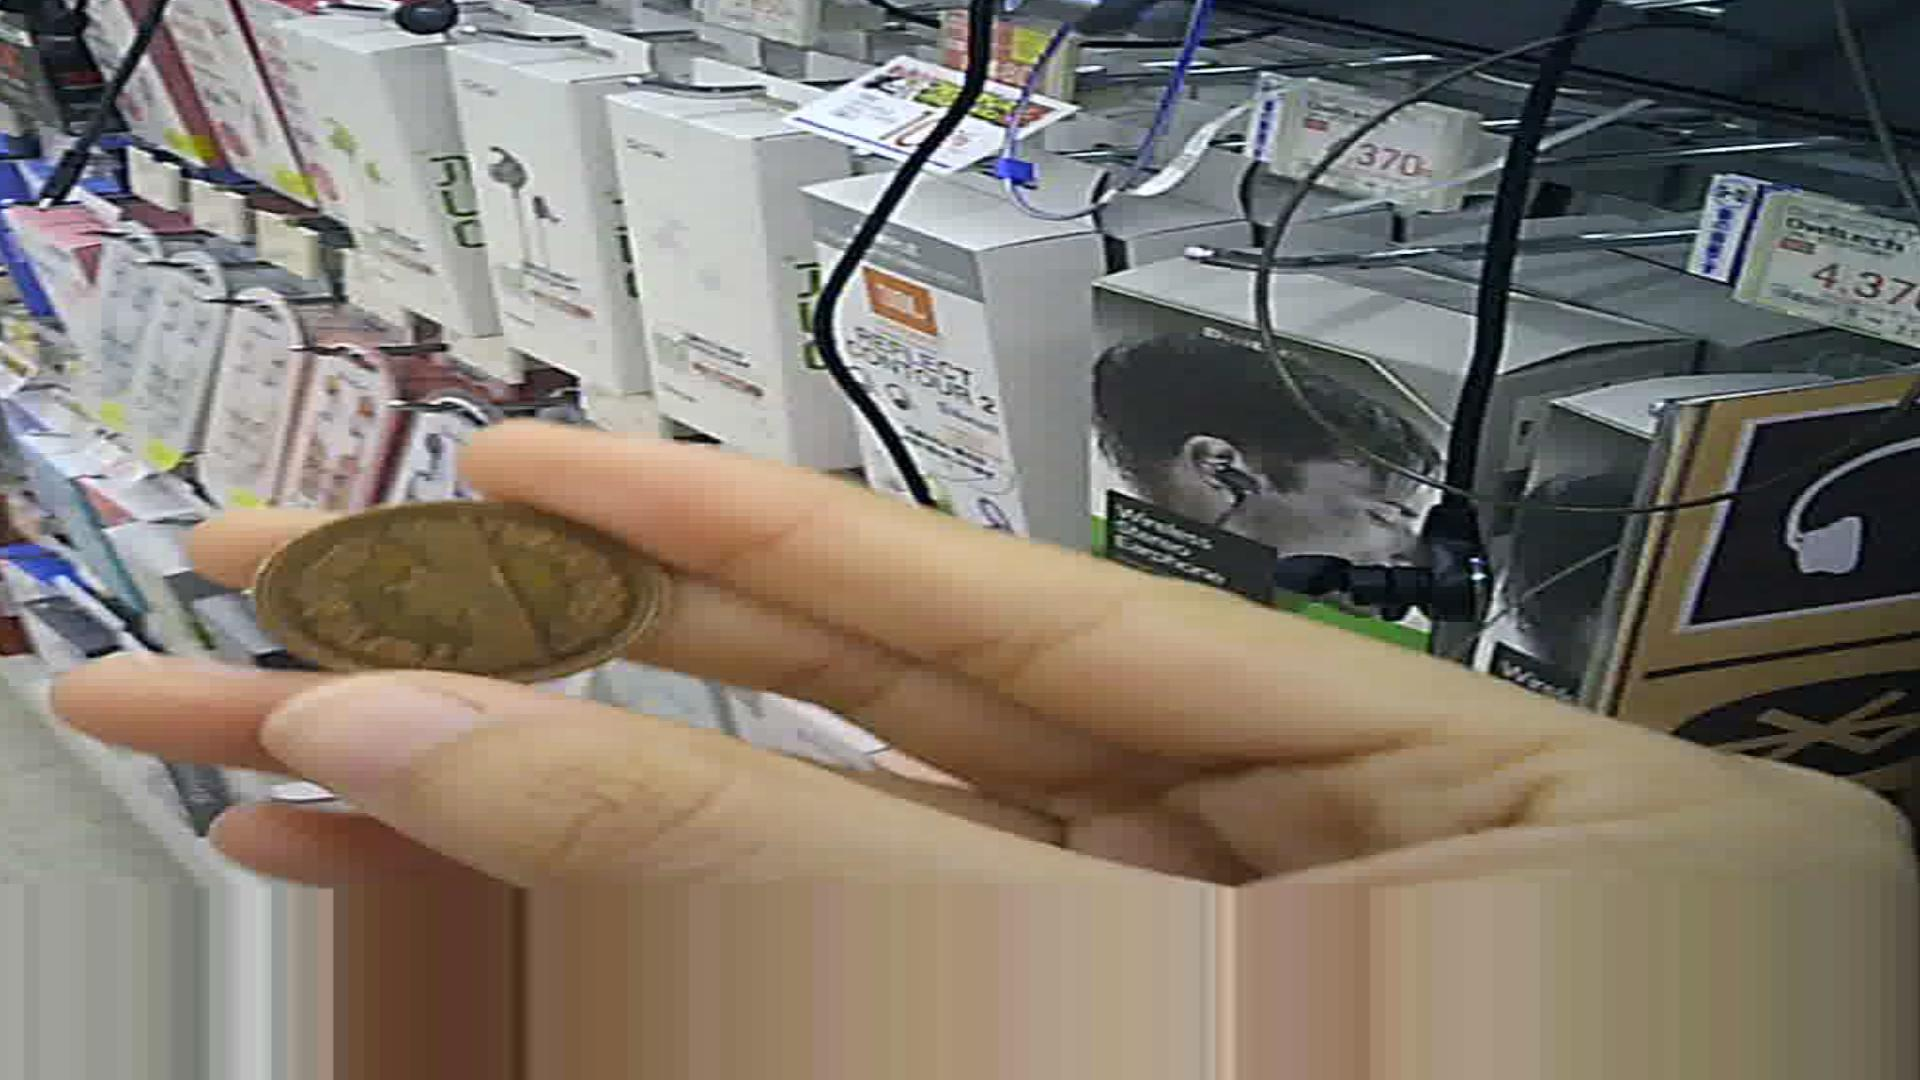10 Yen: (249, 510, 673, 705)
